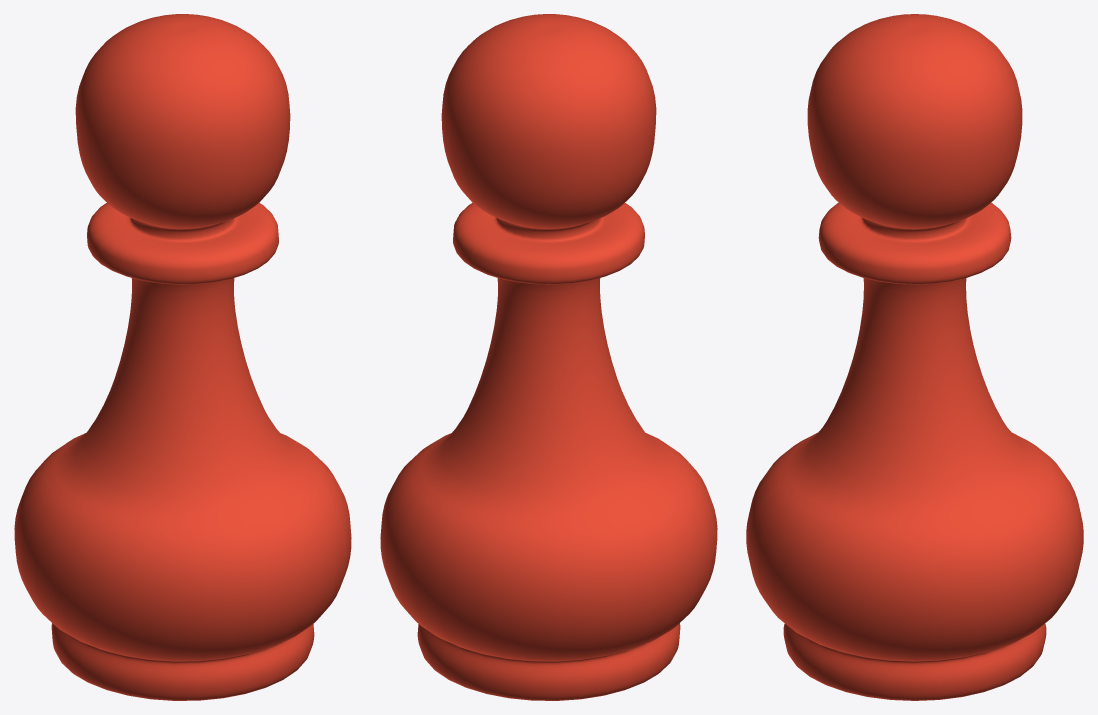
Rendered from Pawn_Red.fbx.
3 renders of one model, left to right at view 1: azimuth 30°, elevation 25°; view 2: azimuth 150°, elevation 25°; view 3: azimuth 270°, elevation 25°, orthographic.
Parts seen in each view (by area): view 1: Pawn_Red; view 2: Pawn_Red; view 3: Pawn_Red.
Boxes of the visible parts, bbox=[...] form: Pawn_Red: bbox=[14, 14, 351, 700]; Pawn_Red: bbox=[380, 14, 717, 700]; Pawn_Red: bbox=[746, 14, 1083, 700].
Size of the model in its own units: 0.2641 by 0.5369 by 0.2641.
Materials: 1 (1 with a texture image).
